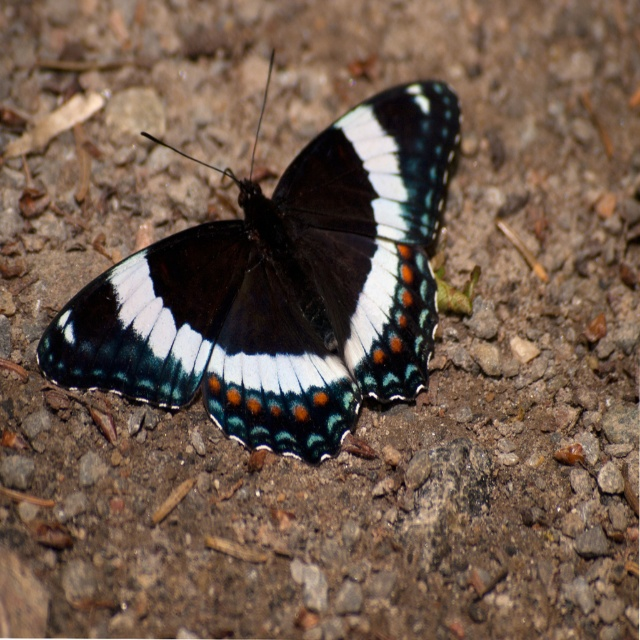Butterfly: (31, 39, 481, 461)
